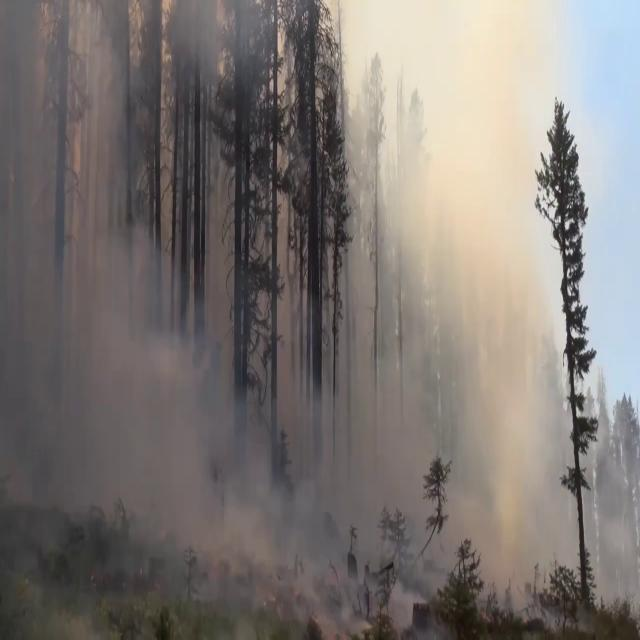Smoke: (310, 2, 636, 620), (0, 0, 290, 611)
